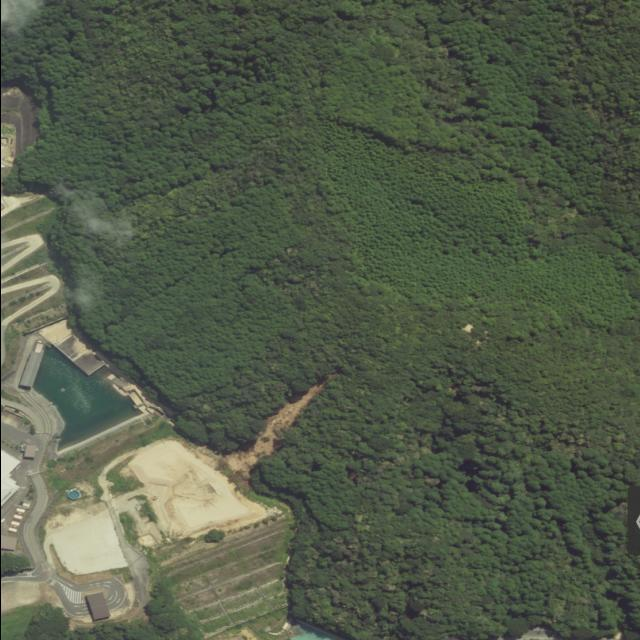landslide: (224, 379, 328, 478)
